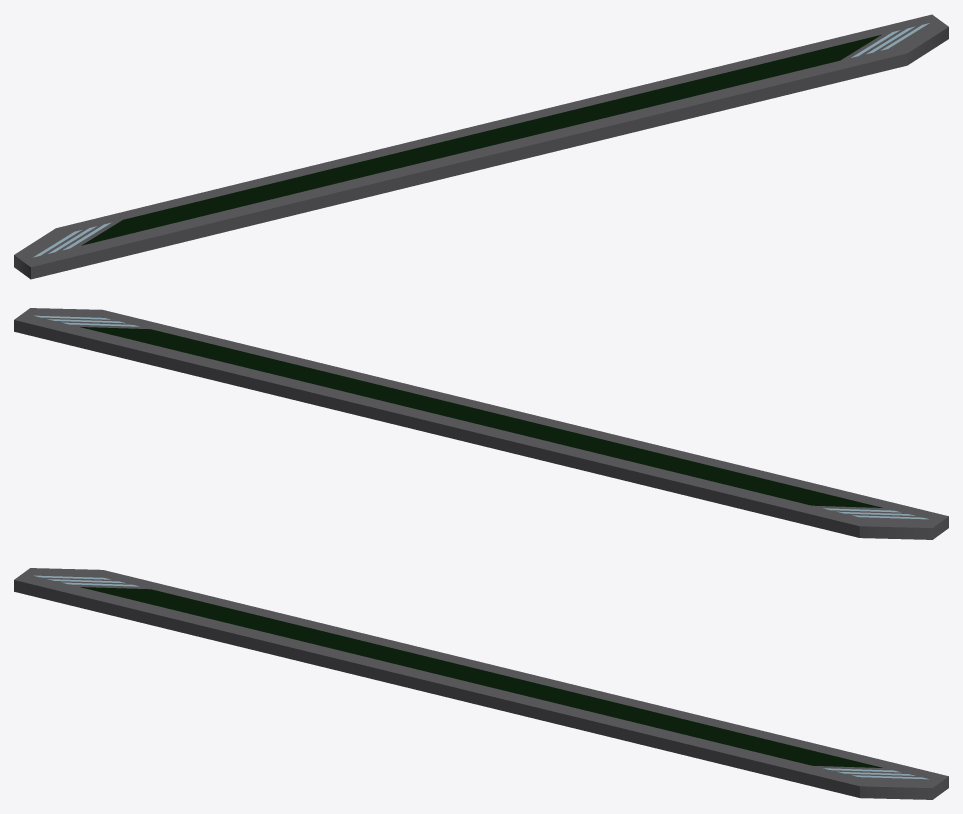
The model's file is W_O_Flowerbed_002_L1.fbx.
3 views of the same model, one above another, from view 1: azimuth 30°, elevation 25°; view 2: azimuth 150°, elevation 25°; view 3: azimuth 330°, elevation 25° (orthographic). The views are drawn at different scales.
Parts seen in each view (by area): view 1: W_O_Flowerbed_002_L1; view 2: W_O_Flowerbed_002_L1; view 3: W_O_Flowerbed_002_L1.
Part boxes in pixels (x1=…): W_O_Flowerbed_002_L1: x1=14, y1=14, x2=948, y2=279; W_O_Flowerbed_002_L1: x1=14, y1=308, x2=948, y2=539; W_O_Flowerbed_002_L1: x1=14, y1=568, x2=948, y2=799.
Bounding box in the file's own units: 8 × 0.105 × 0.5.
